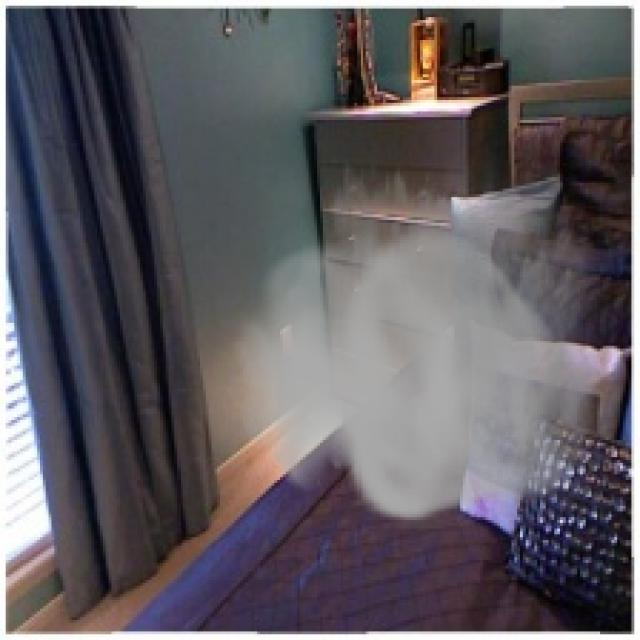smoke: (234, 123, 623, 528)
